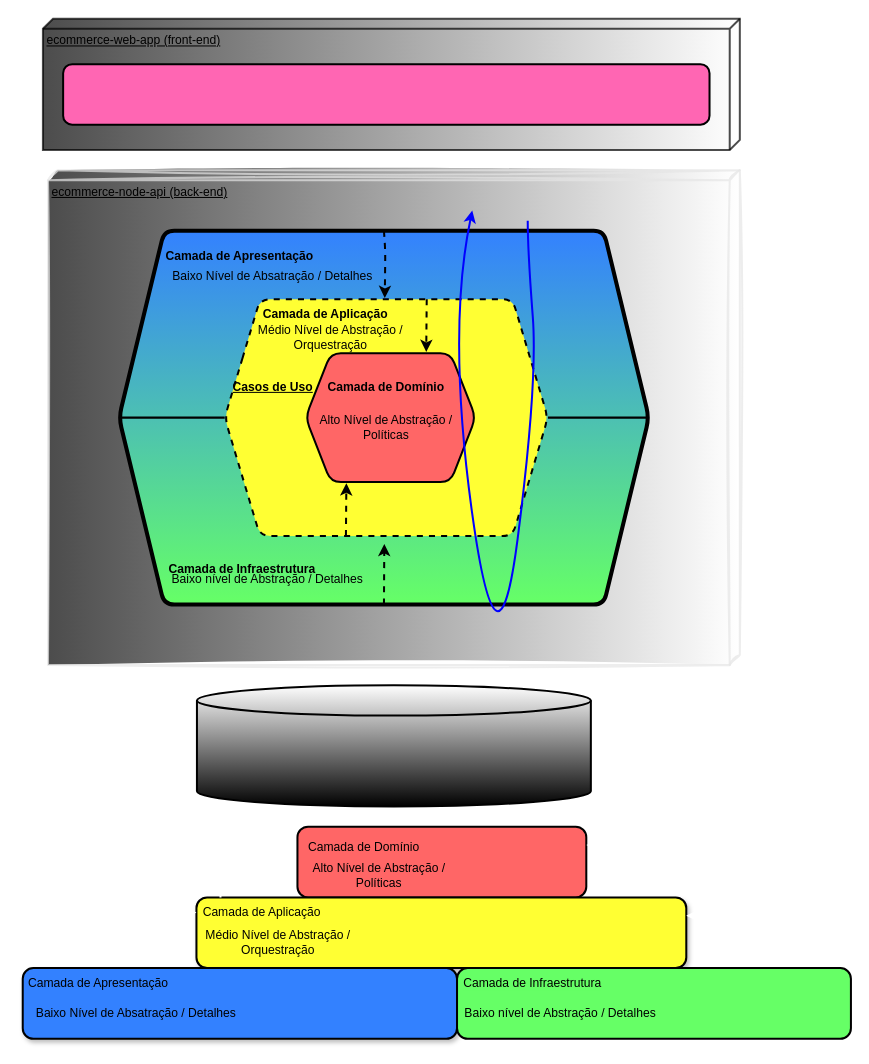
The diagram is 869 pixels wide and 1064 high, and some of its shapes have lost their labels. The centre of each missing label's shape, as x and y in pixels:
Database (Relacional): pixel 393 745
Interface de Usuário: pixel 386 94
